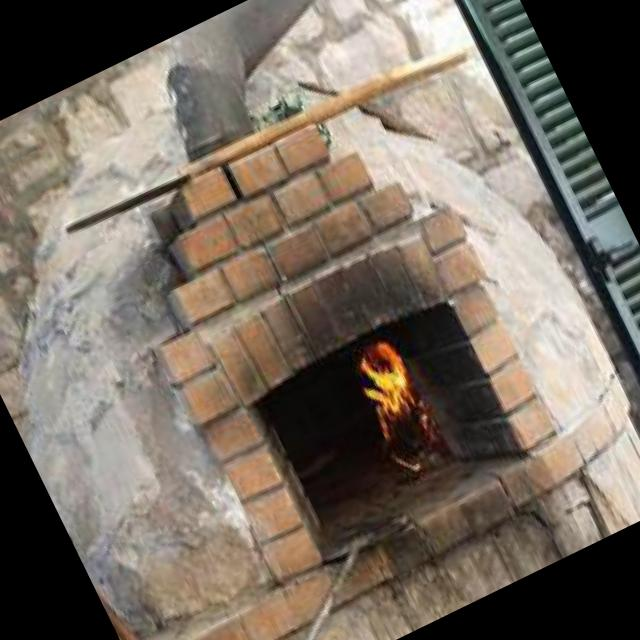fire: (340, 327, 441, 459)
